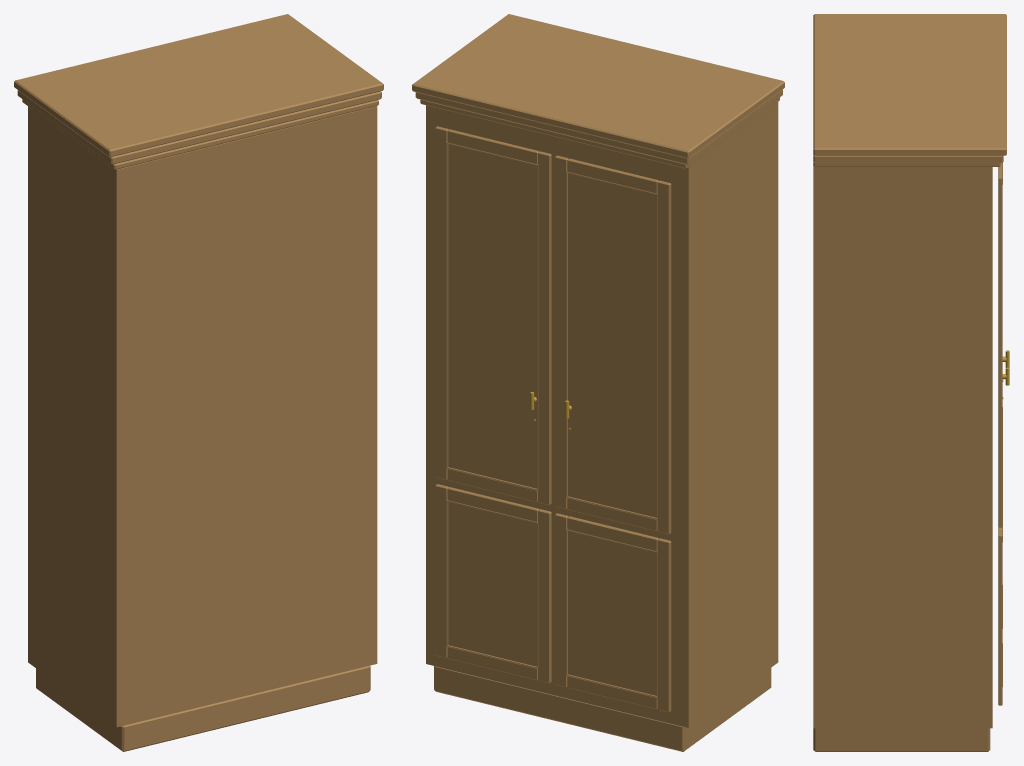
Rendered from parametric-wardrobe-2nd-pub.glb.
3 views of the same model, side by side, from view 1: azimuth 30°, elevation 25°; view 2: azimuth 150°, elevation 25°; view 3: azimuth 270°, elevation 25° (orthographic).
Visible parts, largest first — view 1: parametric-wardrobe-2nd-pub; view 2: parametric-wardrobe-2nd-pub; view 3: parametric-wardrobe-2nd-pub.
Part boxes in pixels (<box>): parametric-wardrobe-2nd-pub: <box>14,14,383,751</box>; parametric-wardrobe-2nd-pub: <box>412,14,784,751</box>; parametric-wardrobe-2nd-pub: <box>813,14,1009,751</box>.
Size of the model in its own units: 0.95 by 2 by 0.5827.
